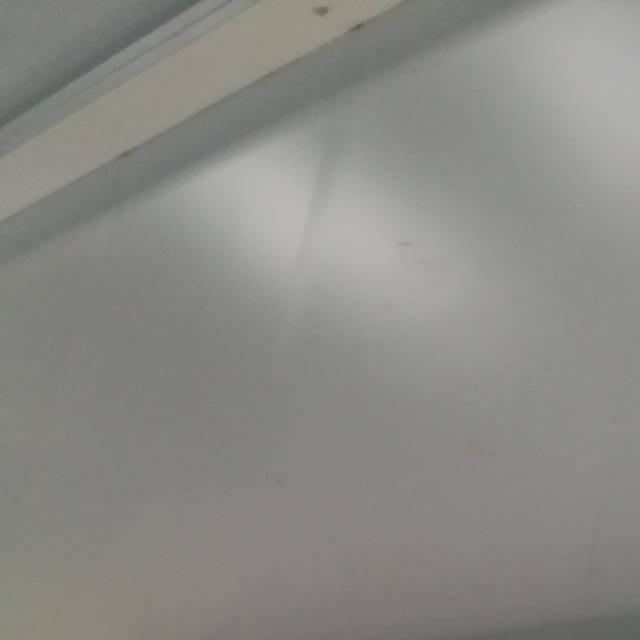fluorescent tube: (52, 569, 640, 640)
